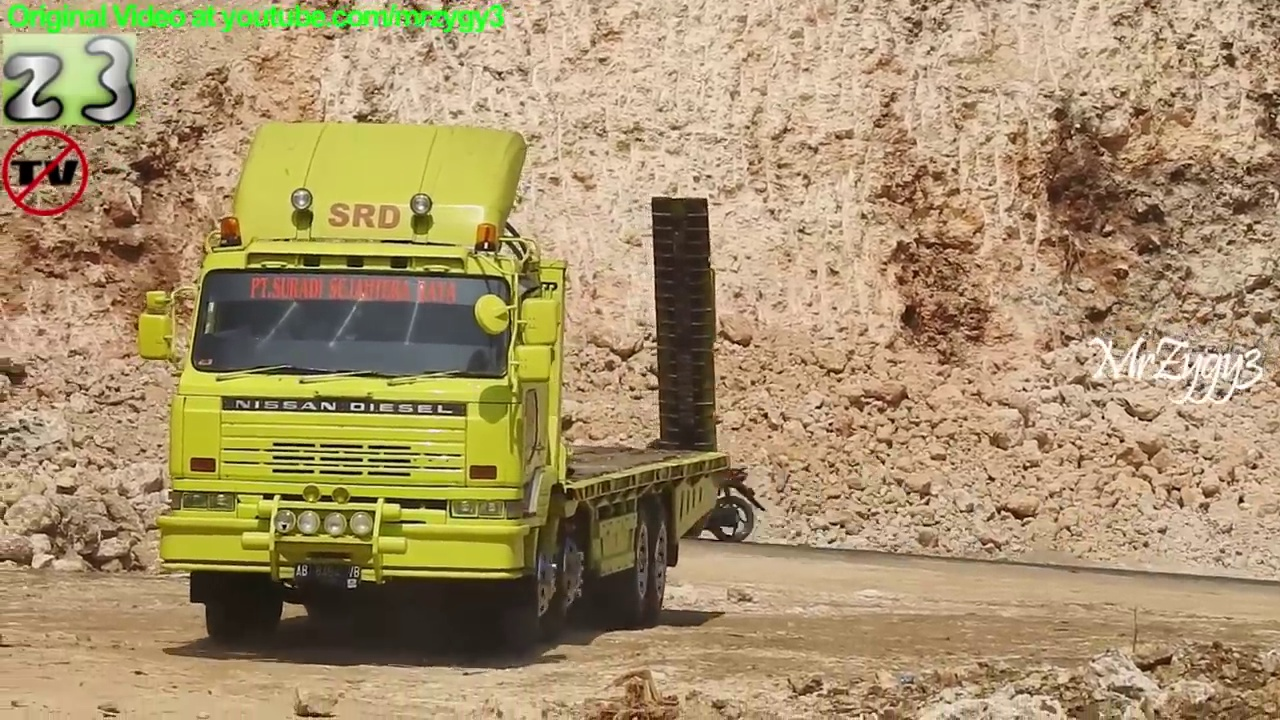truck: (133, 116, 760, 651)
